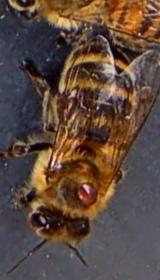varroa_mite: (70, 173, 104, 212)
